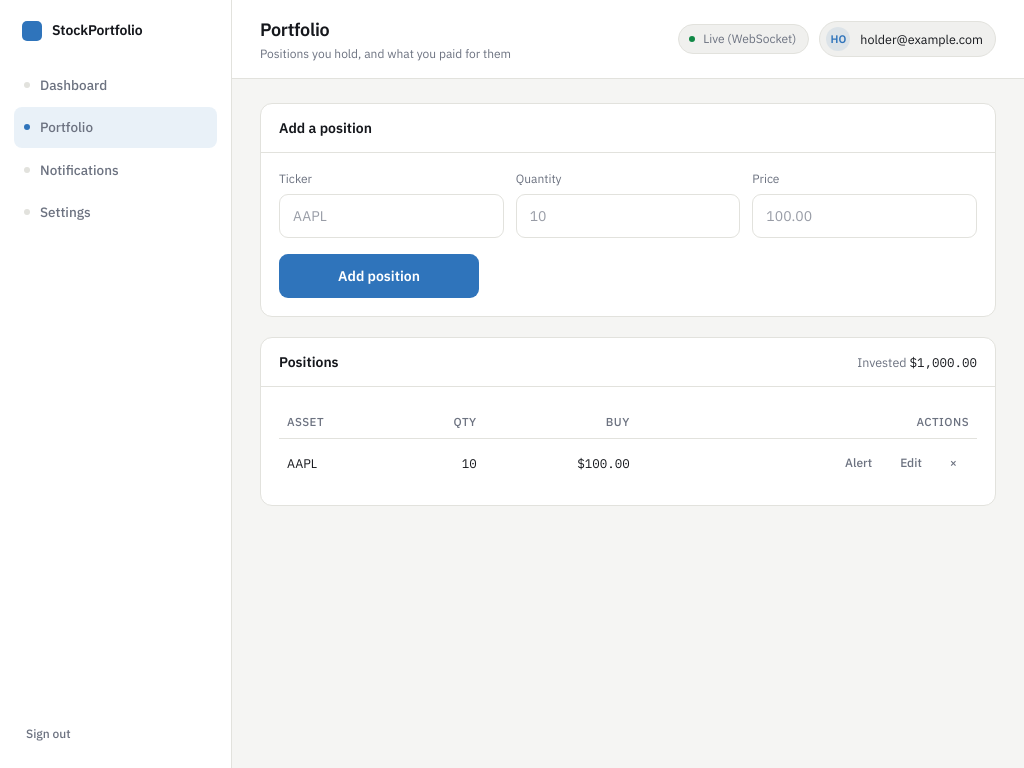
Test case: portfolio › keeps the server own words when a delete is refused with a reason
Expected: the heading "Portfolio" is shown, [260, 18, 330, 41]
Click the button named "remove aapl": (953,463) [938, 449, 969, 477]
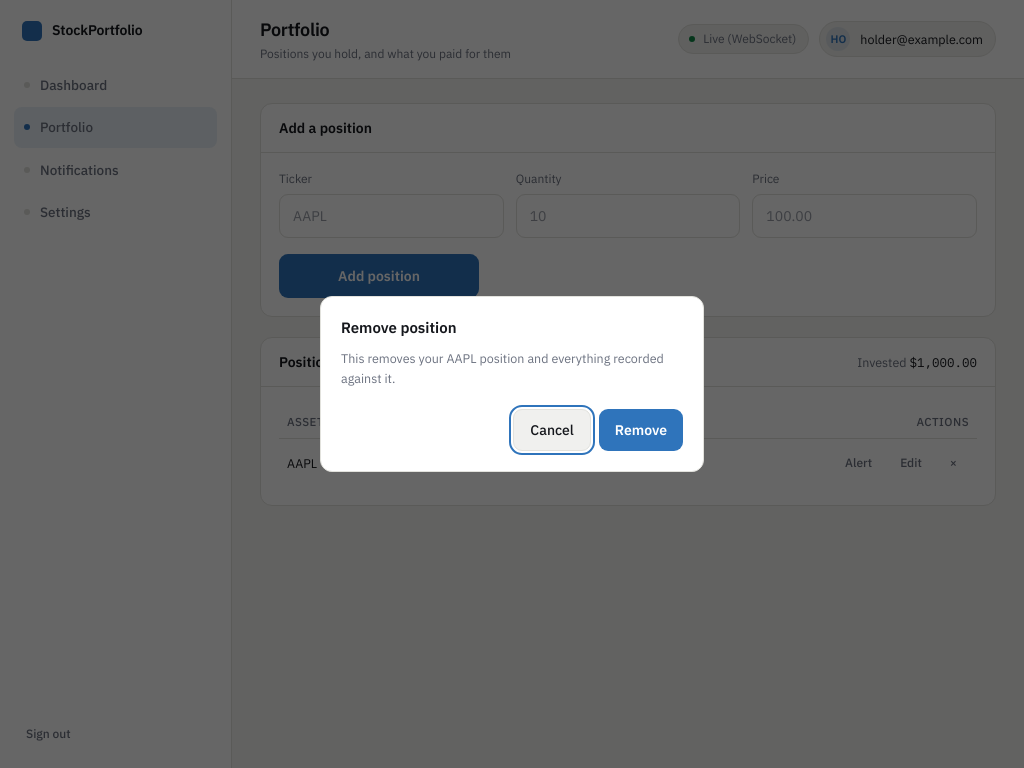
Click the button "Remove": (641,430) [599, 409, 683, 451]
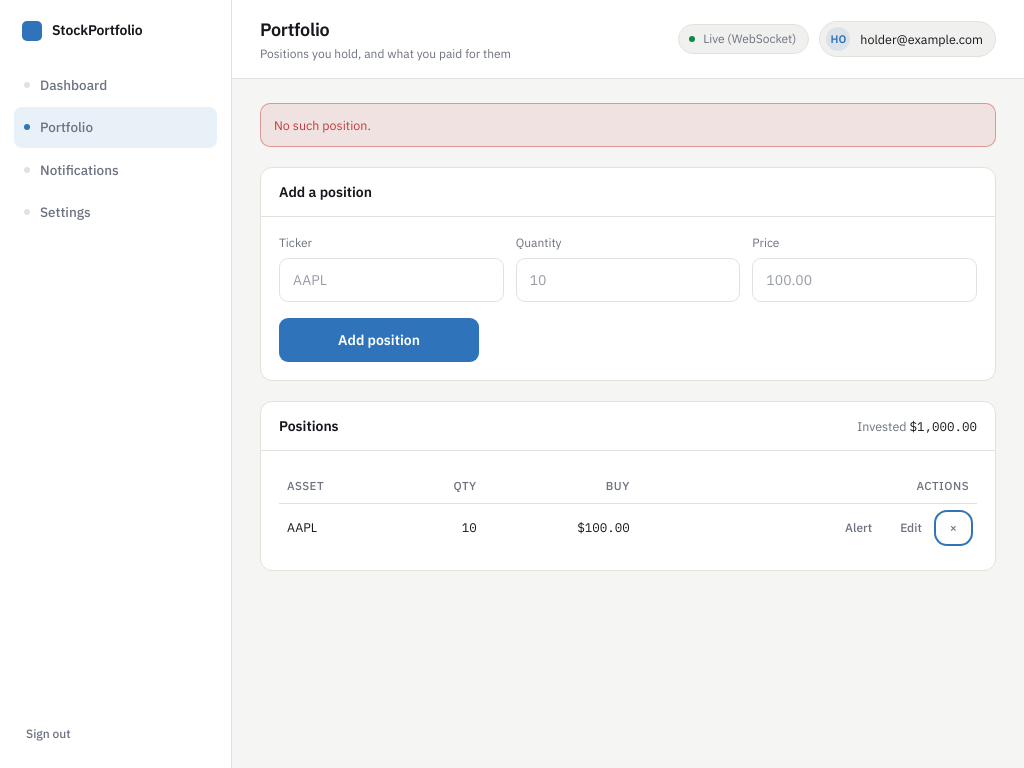
Expected: the message does not show "could not remove aapl", [260, 103, 996, 147]
Result: the message shows "No such position" at [274, 117, 371, 133]
